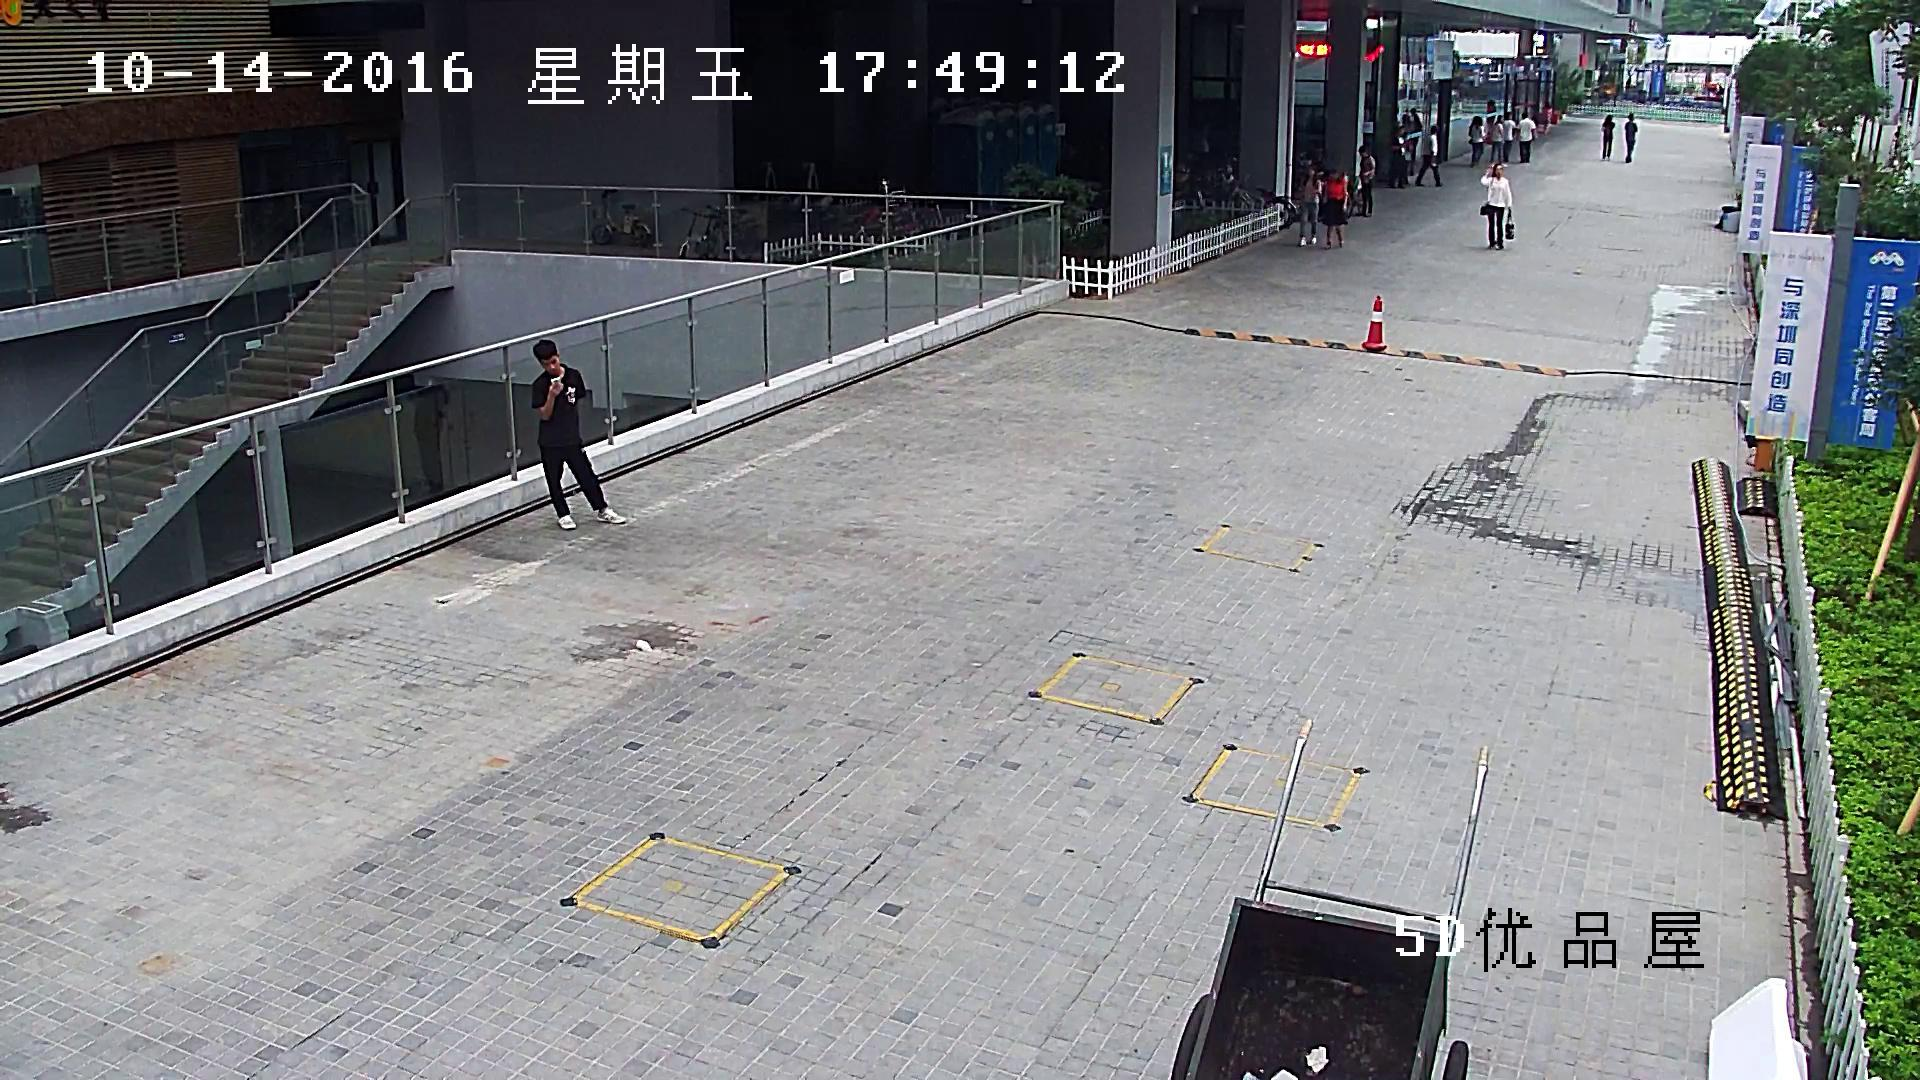person: (531, 339, 628, 529), (404, 383, 448, 494), (1479, 162, 1513, 249), (1297, 165, 1322, 246), (1321, 169, 1346, 248), (1414, 125, 1442, 186), (1356, 145, 1375, 217), (1515, 112, 1536, 162), (1387, 129, 1405, 189), (1409, 107, 1421, 162), (1470, 116, 1485, 165), (1503, 111, 1515, 162), (1490, 114, 1503, 160), (1601, 114, 1614, 159), (1624, 112, 1637, 162), (1401, 107, 1410, 152), (1486, 99, 1495, 124)
